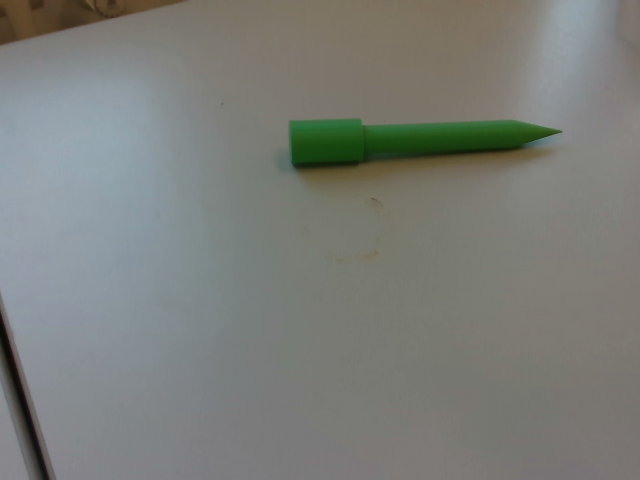Probe: (282, 111, 568, 173)
